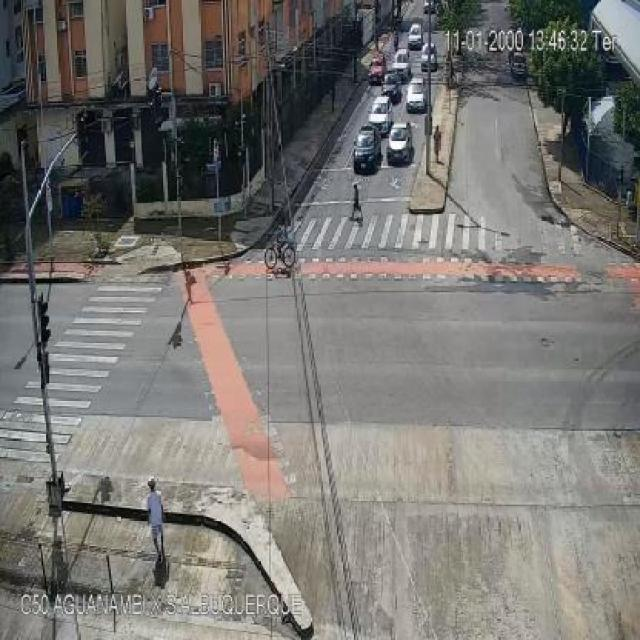Car: (351, 128, 381, 172), (387, 121, 411, 165), (368, 97, 394, 136), (406, 76, 428, 112), (381, 72, 402, 108), (388, 46, 409, 81), (367, 54, 386, 84), (405, 23, 424, 48), (419, 44, 437, 70)
Cycle: (264, 218, 298, 276)
